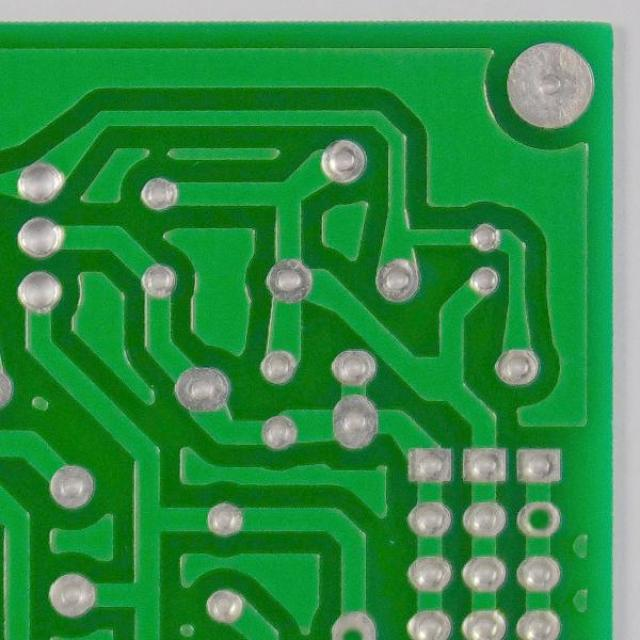Missing_Hole: (514, 498, 563, 541), (325, 608, 381, 639)
